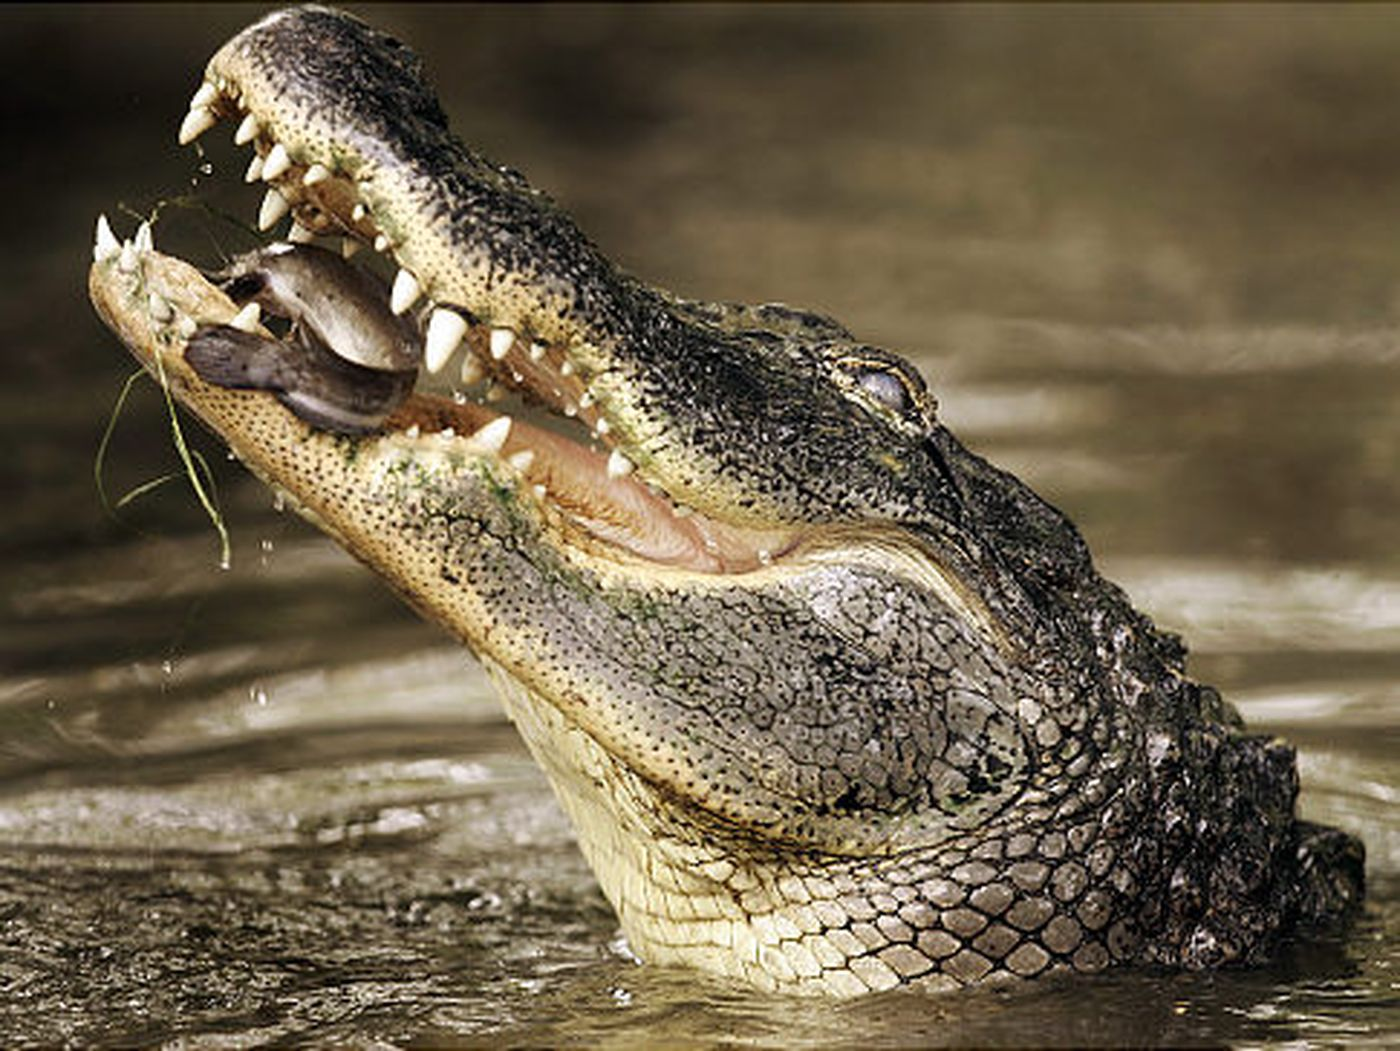Crocodile: (93, 1, 1382, 1004)
